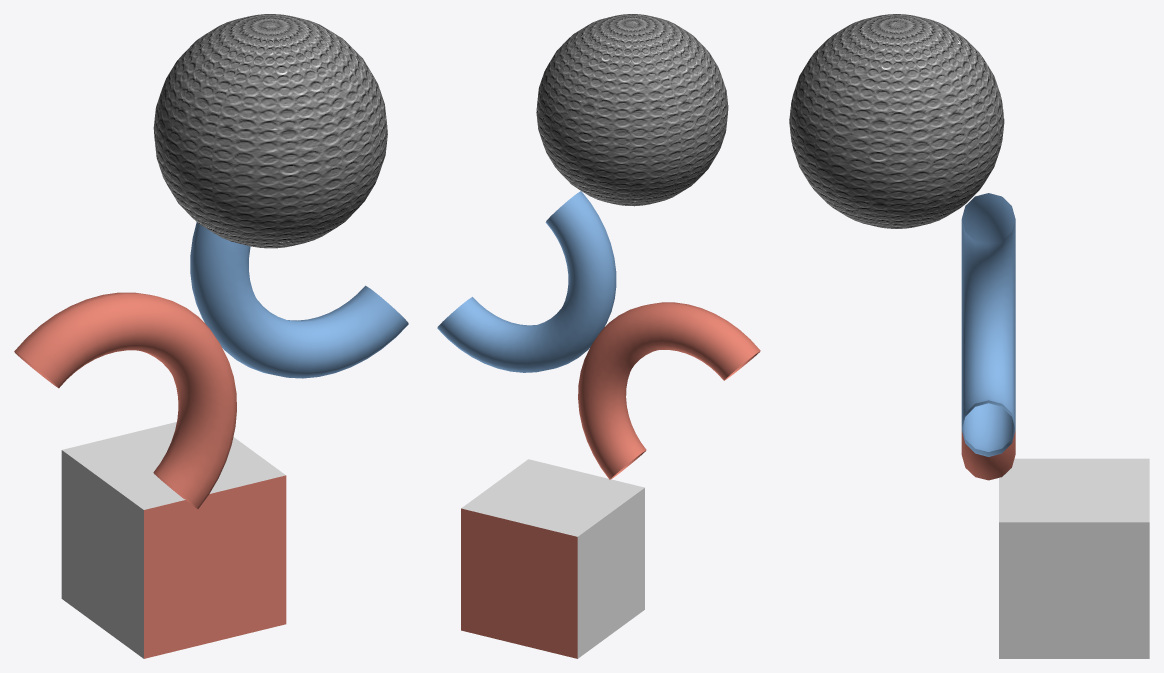
The picture shows the model from 3 angles, left to right: view 1: azimuth 30°, elevation 25°; view 2: azimuth 150°, elevation 25°; view 3: azimuth 270°, elevation 25°; orthographic projection. The views are drawn at different scales.
Parts seen in each view (by area): view 1: Sphere; view 2: Sphere; view 3: Sphere.
Boxes of the visible parts, x1,y1,x2,y2 form: Sphere: (14,14,408,658); Sphere: (437,14,760,658); Sphere: (789,14,1149,658).
Bounding box in the file's own units: 2.27 × 3.71 × 2.01.
4 materials, 1 textured.
